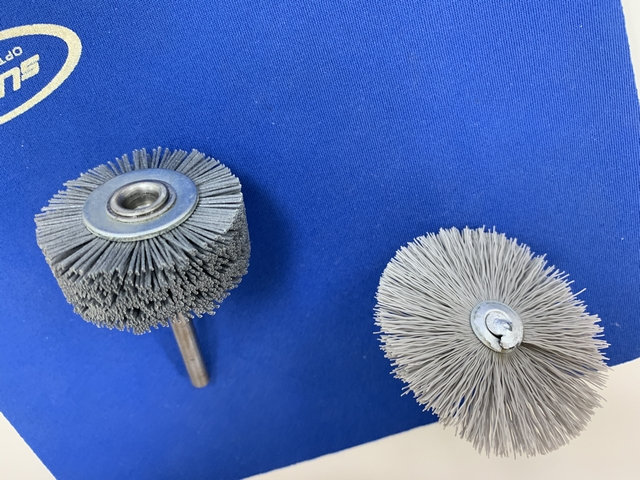TOOL: (357, 202, 628, 463), (363, 197, 573, 467), (359, 195, 619, 402), (436, 197, 620, 468)
Wheel Brush: (31, 145, 274, 398), (9, 205, 275, 398), (94, 145, 251, 387)
